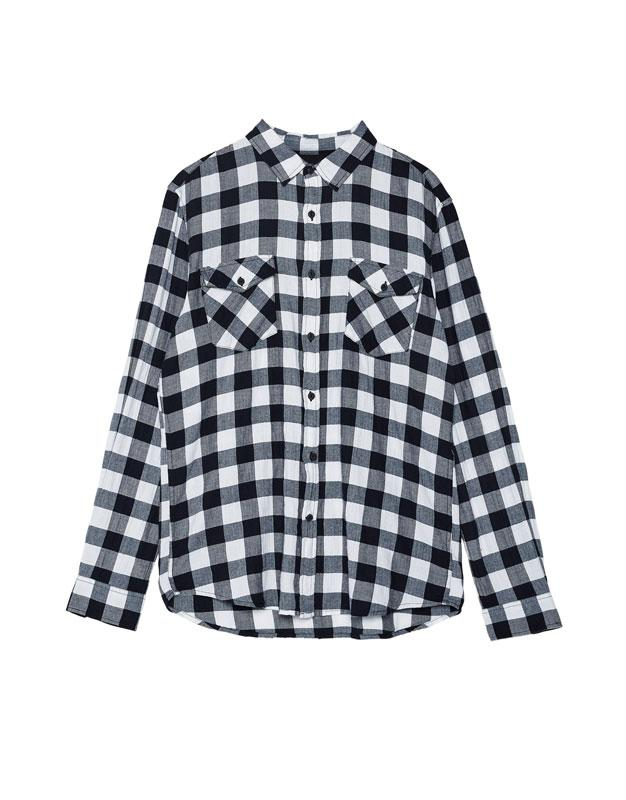teeshirt: (62, 116, 572, 658)
